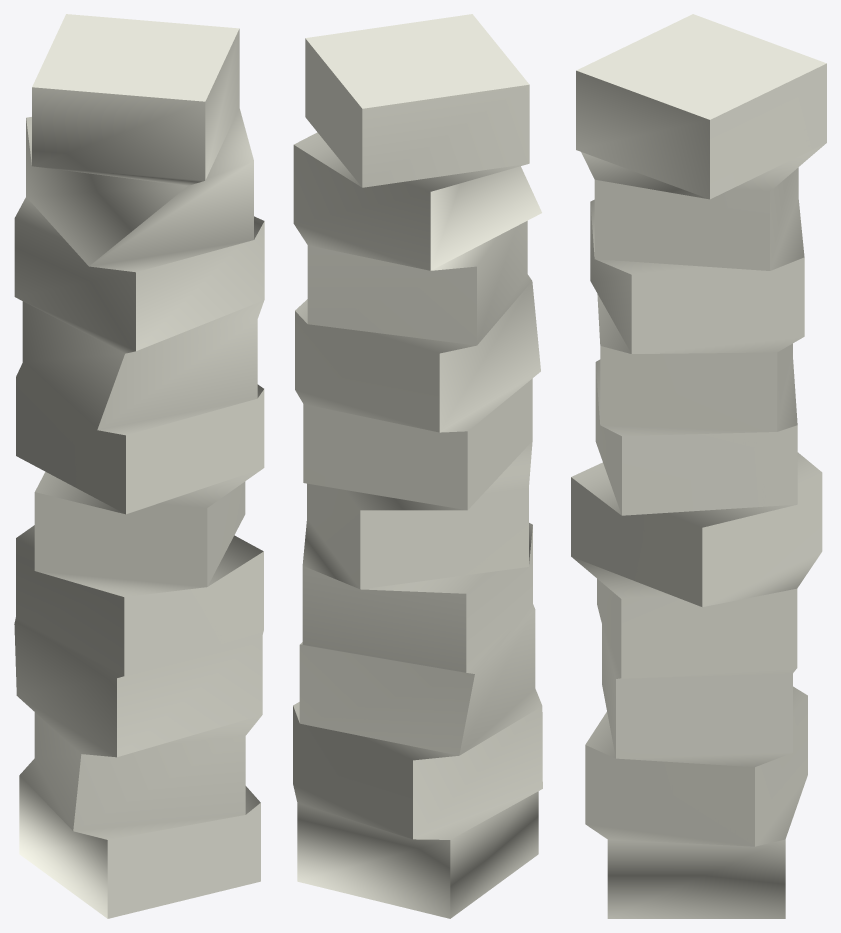
File: stack.fbx
3 views of the same model, side by side, from view 1: azimuth 30°, elevation 25°; view 2: azimuth 150°, elevation 25°; view 3: azimuth 270°, elevation 25° (orthographic).
Parts seen in each view (by area): view 1: pCube1; view 2: pCube1; view 3: pCube1.
Part boxes in pixels (x1=…): pCube1: x1=14, y1=14, x2=264, y2=918; pCube1: x1=293, y1=14, x2=542, y2=918; pCube1: x1=571, y1=14, x2=826, y2=918.
Size of the model in its own units: 1.42 by 5.05 by 1.44.
Materials: 1 (1 with a texture image).
